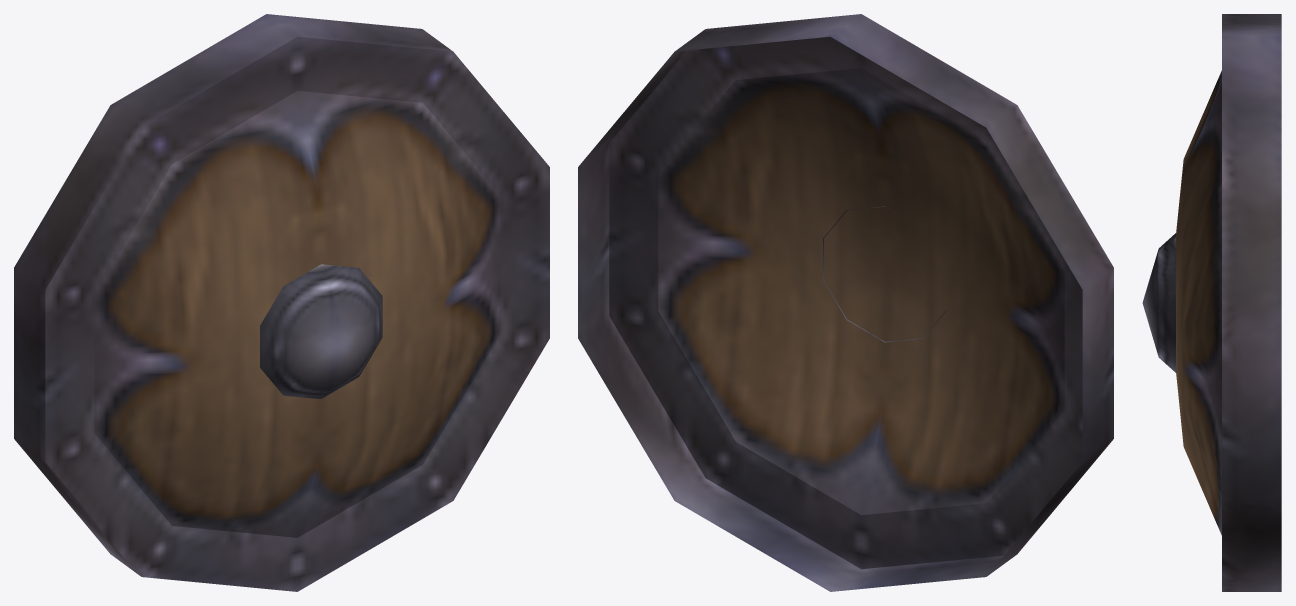
Rendered from shield_1.FBX.
3 views of the same model, side by side, from view 1: azimuth 30°, elevation 25°; view 2: azimuth 150°, elevation 25°; view 3: azimuth 270°, elevation 25° (orthographic). The views are drawn at different scales.
Parts seen in each view (by area): view 1: shield_1; view 2: shield_1; view 3: shield_1.
Part boxes in pixels (<box>): shield_1: <box>14,14,549,591</box>; shield_1: <box>578,14,1113,591</box>; shield_1: <box>1142,14,1281,591</box>.
Bounding box in the file's own units: 24.88 × 26.16 × 6.18.
